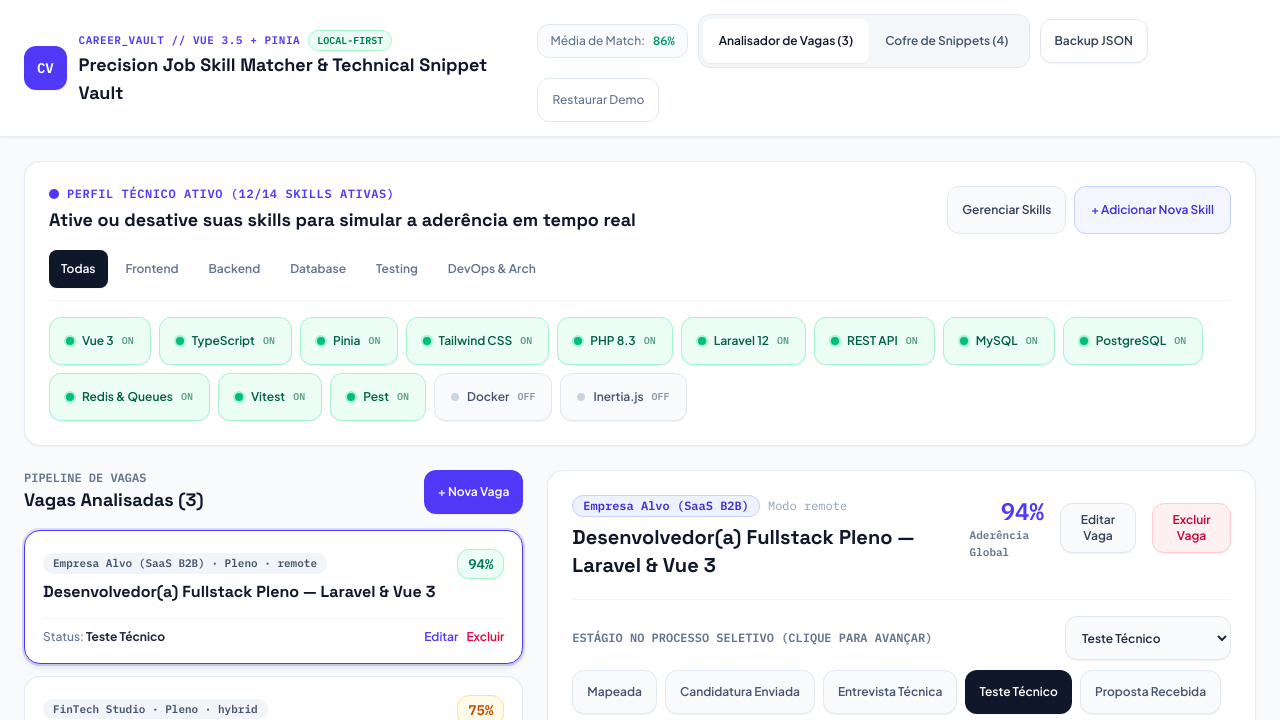
Scenario: CareerVault UI Components (TDD) › renders Precision Engineering Ledger header, candidate skill toggles, and updates match score when Docker skill is clicked
The width and height of the screenshot is (1280, 720).
Check: the text with test id "overall-match-score" reads "94%", box x1=1001 y1=495 x2=1044 y2=527
Click the button with test id "skill-toggle-Docker" at (493, 397), box x1=434 y1=373 x2=552 y2=421
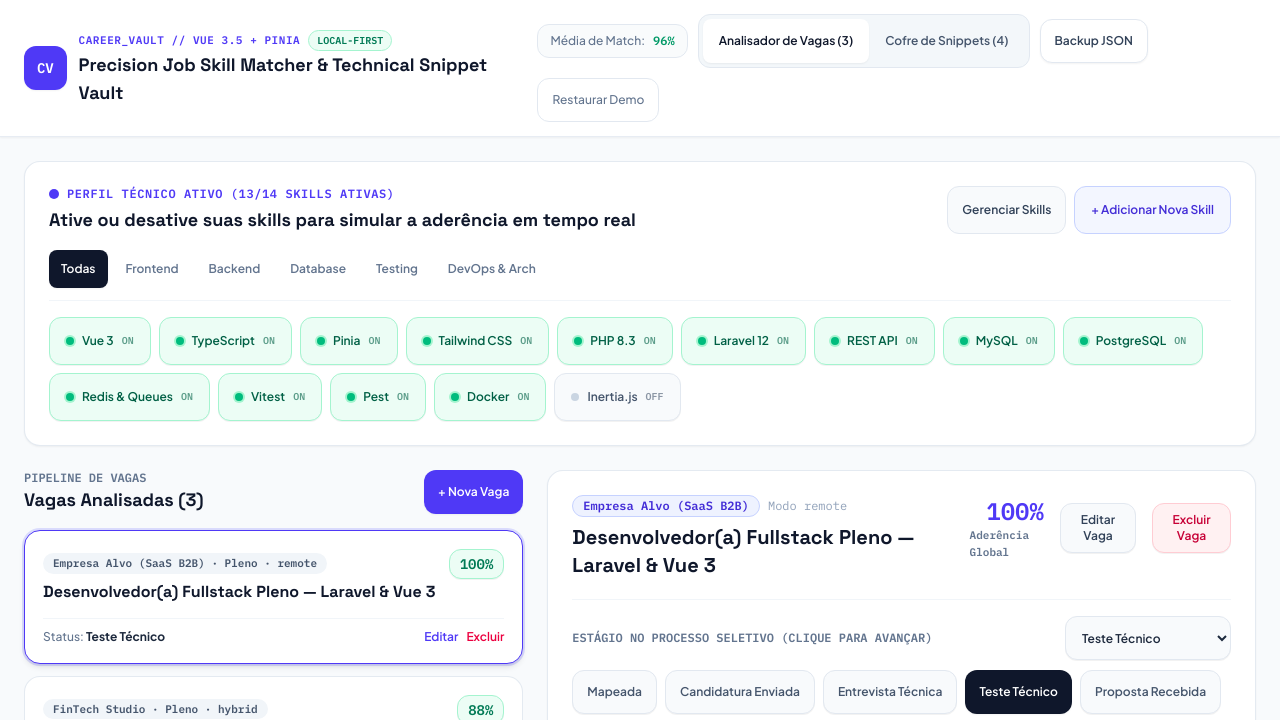
Check: the text with test id "overall-match-score" reads "100%", box x1=986 y1=495 x2=1044 y2=527
